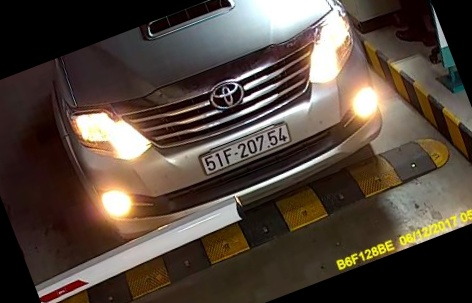plate: (195, 120, 295, 181)
